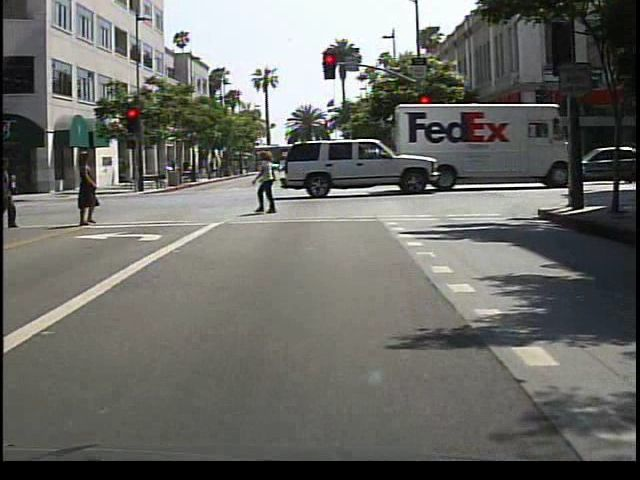person: (72, 147, 104, 228), (253, 149, 289, 217), (5, 153, 28, 229), (181, 157, 195, 183)
